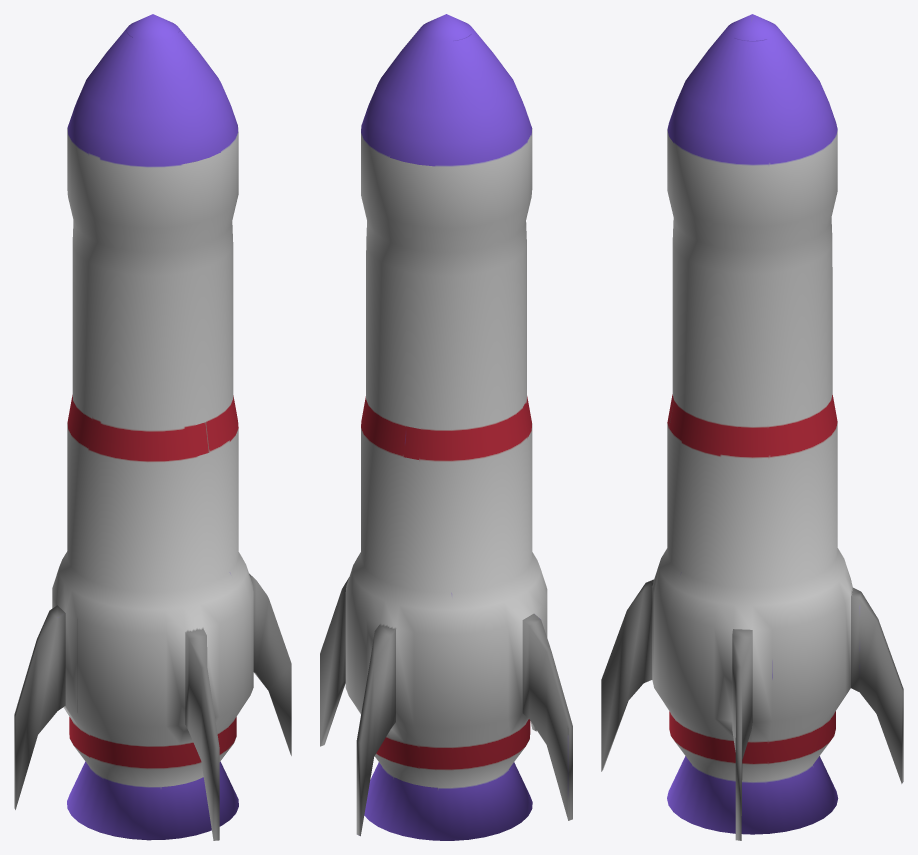
The model's file is missile.fbx.
3 renders of one model, left to right at view 1: azimuth 30°, elevation 25°; view 2: azimuth 150°, elevation 25°; view 3: azimuth 270°, elevation 25°, orthographic.
Parts seen in each view (by area): view 1: Missile; view 2: Missile; view 3: Missile.
Boxes of the visible parts, bbox=[...] form: Missile: bbox=[14, 14, 291, 840]; Missile: bbox=[320, 14, 572, 840]; Missile: bbox=[601, 14, 903, 840].
Bounding box in the file's own units: 0.3551 × 1.02 × 0.3551.
